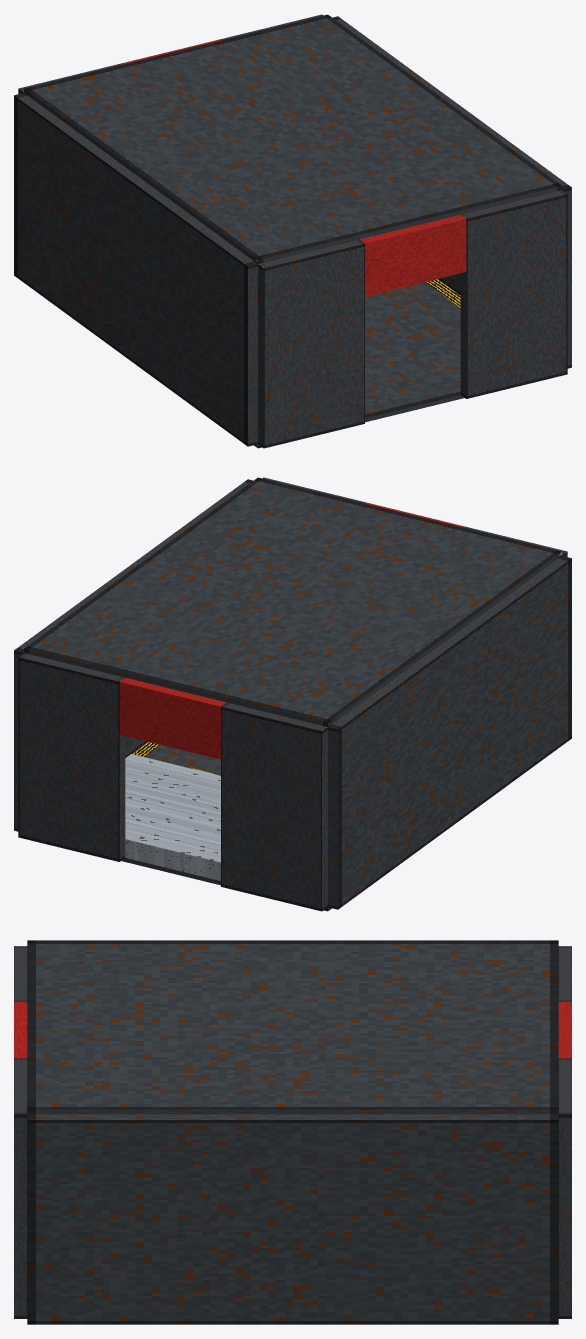
Rendered from station_room.glb.
3 renders of one model, top to bottom at view 1: azimuth 30°, elevation 25°; view 2: azimuth 150°, elevation 25°; view 3: azimuth 270°, elevation 25°, orthographic. The views are drawn at different scales.
Parts seen in each view (by area): view 1: bn_station_room_1337; view 2: bn_station_room_1337; view 3: bn_station_room_1337.
Part boxes in pixels (box(x1,y1,x2,y2)): bn_station_room_1337: box(14, 14, 571, 448); bn_station_room_1337: box(14, 477, 571, 911); bn_station_room_1337: box(14, 940, 571, 1324).
Bounding box in the file's own units: 6.4 × 3.56 × 8.4.
Materials: 7 (7 with a texture image).
